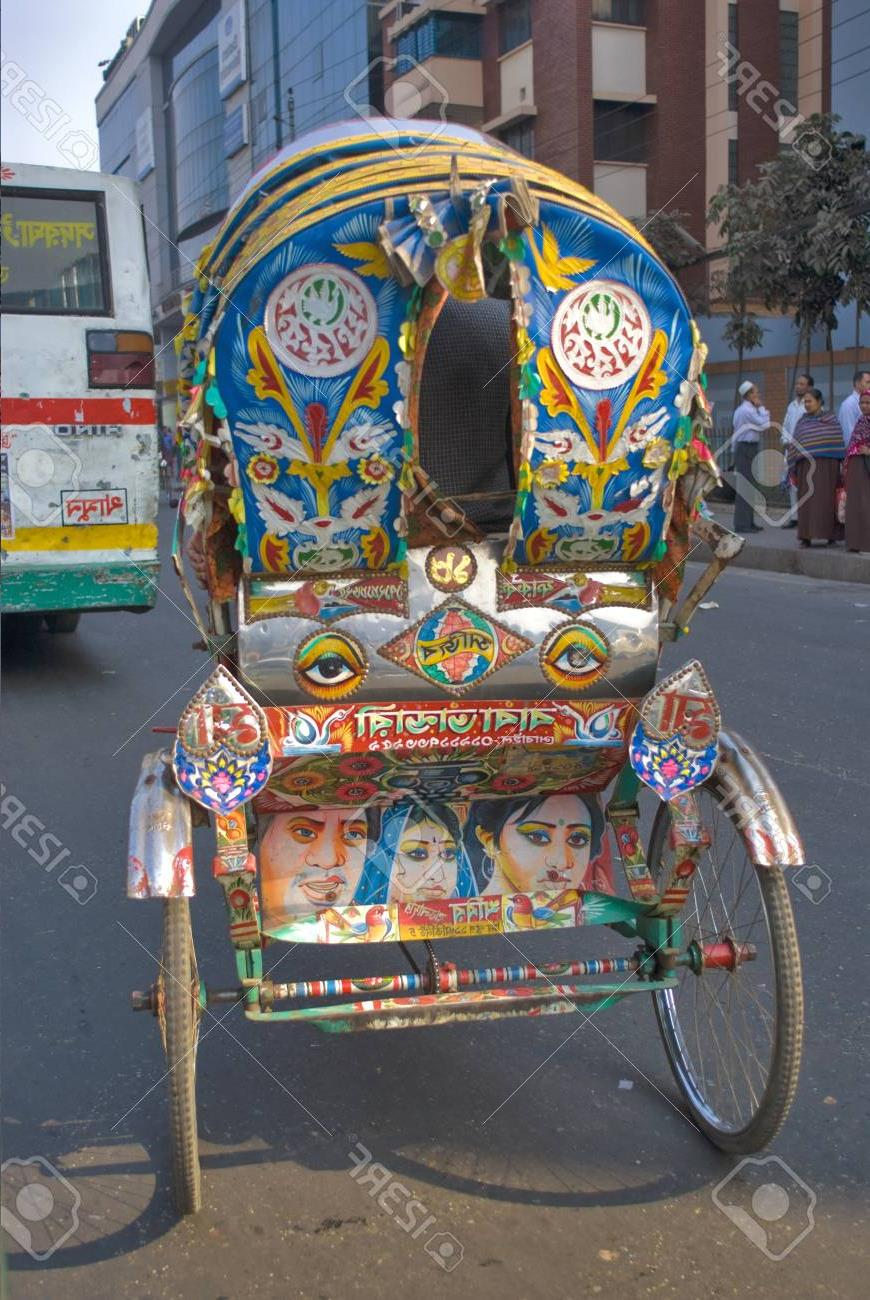Rickshaw: (140, 132, 829, 1204)
